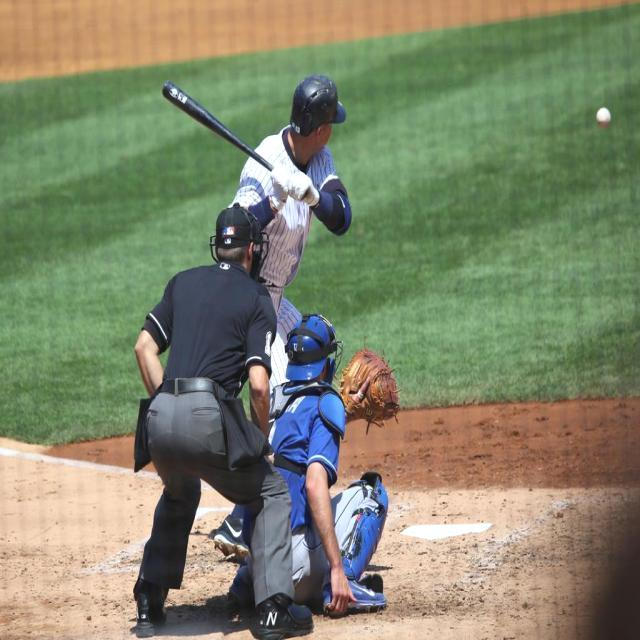ball: (594, 105, 612, 126)
bat: (162, 82, 274, 172)
